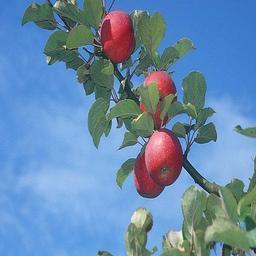apple: (144, 128, 183, 186), (141, 71, 177, 125), (99, 11, 135, 62), (133, 150, 165, 197)
